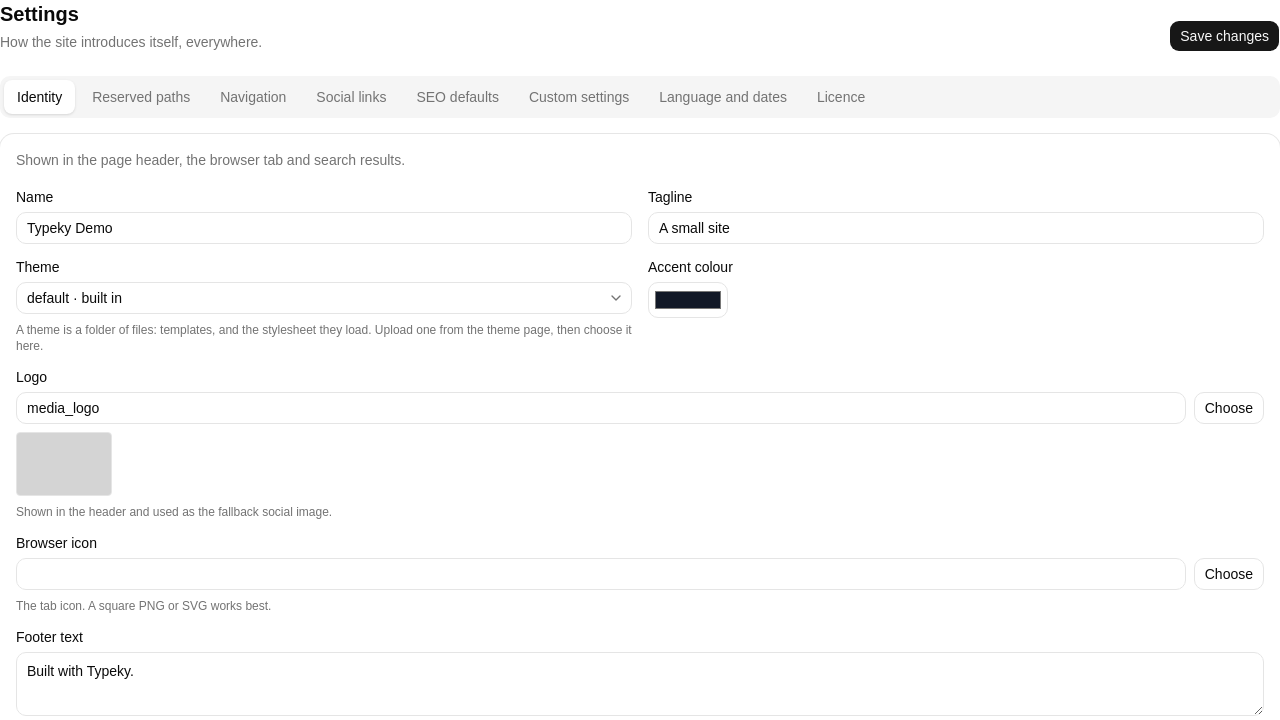
the logo › can be chosen from the media library instead of pasting an id
This screenshot has width=1280, height=720.
Click the button with aria-label "Choose logo". click: x=1229, y=408
box: [1194,392,1264,424]
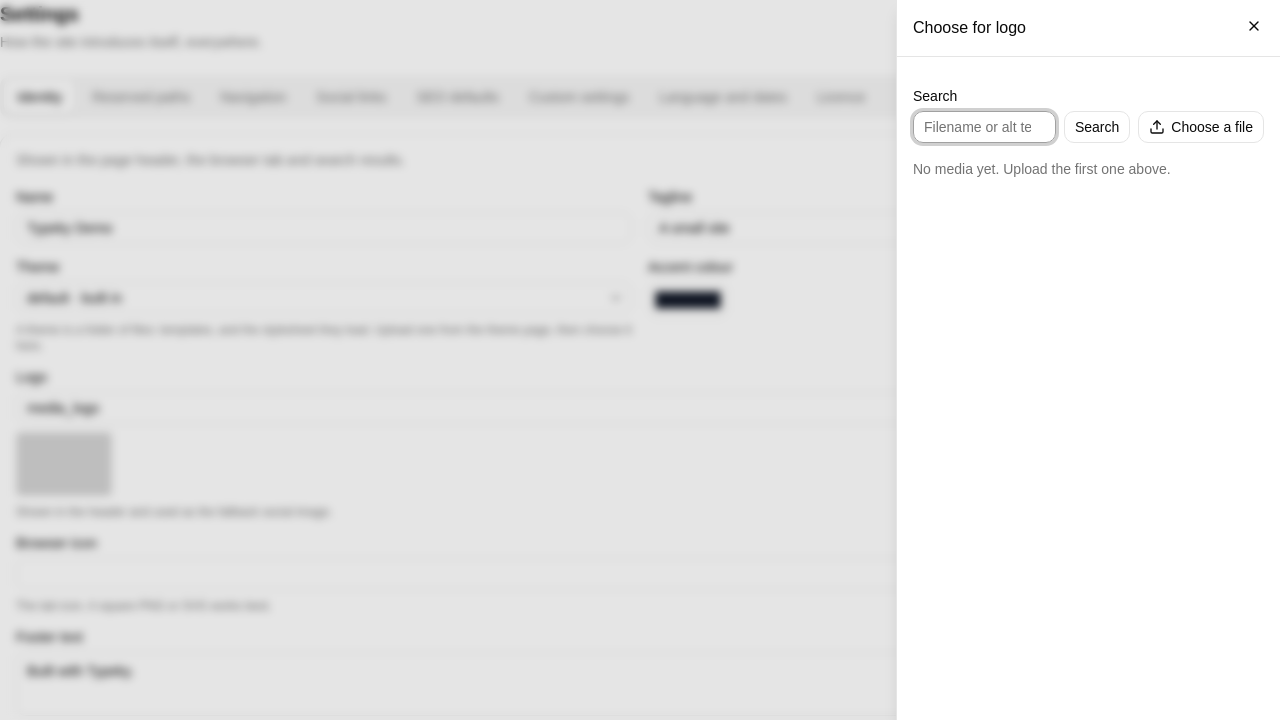
Expected: the heading "Choose for logo" is shown, [913,19,1026,36]
